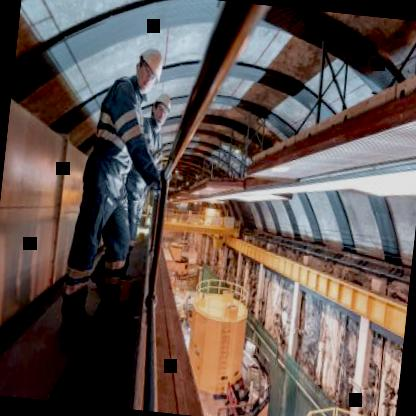helmet: (130, 43, 166, 92), (144, 86, 172, 130)
